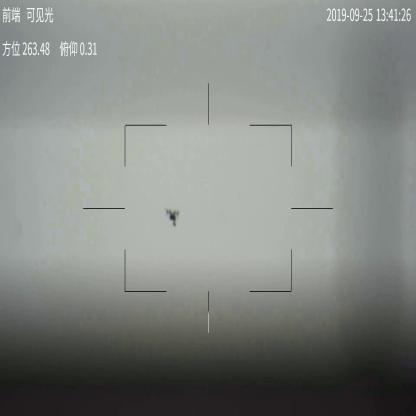uav: (162, 208, 180, 230)
